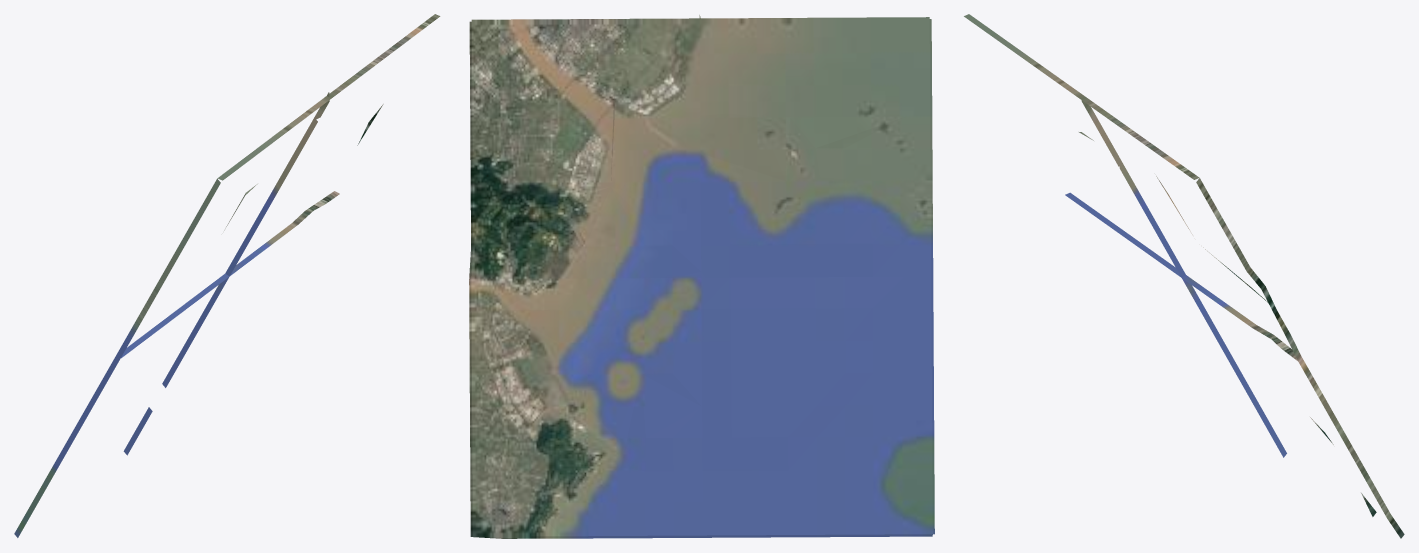
3 renders of one model, left to right at view 1: azimuth 30°, elevation 25°; view 2: azimuth 150°, elevation 25°; view 3: azimuth 270°, elevation 25°, orthographic. The views are drawn at different scales.
Size of the model in its own units: 39548 by 35524 by 34052.
1 material, 1 textured.
